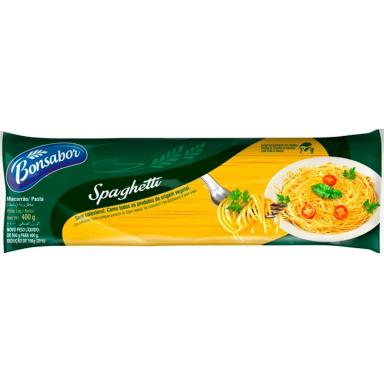pasta package: (1, 131, 382, 251)
